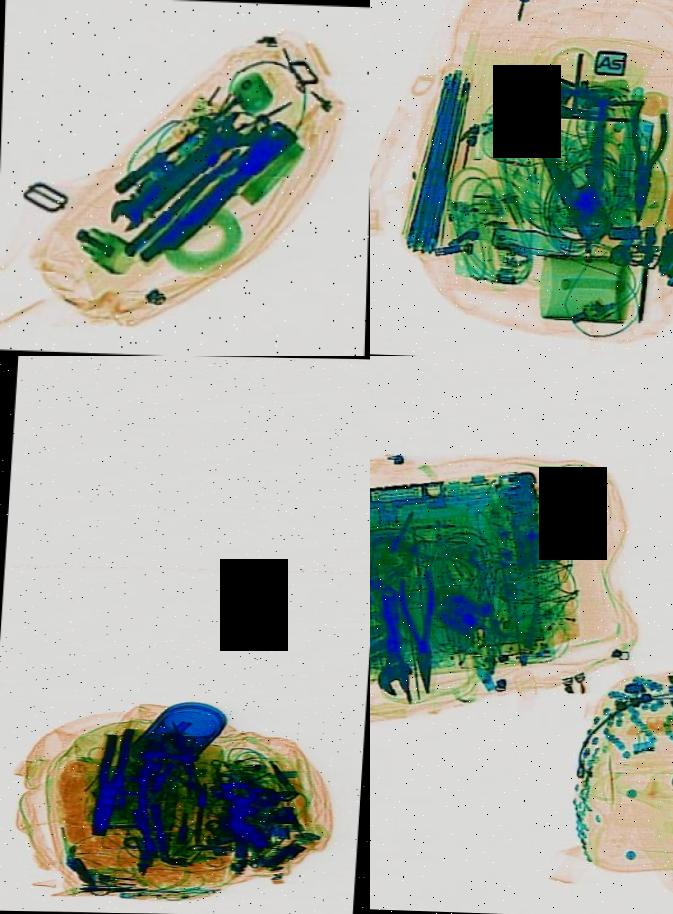Pliers: (516, 84, 646, 256), (391, 568, 450, 694), (618, 98, 668, 224), (84, 720, 134, 841)
Wrench: (99, 97, 267, 240), (370, 580, 419, 698)
